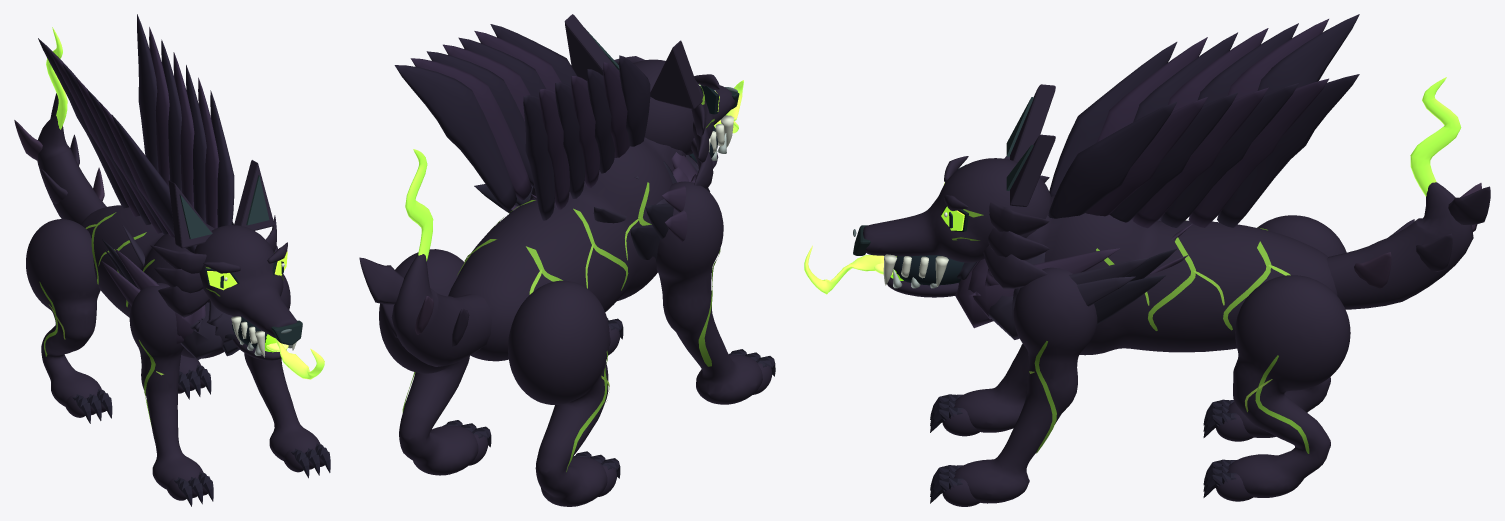
Rendered from venomaris.glb.
The picture shows the model from 3 angles, left to right: view 1: azimuth 30°, elevation 25°; view 2: azimuth 150°, elevation 25°; view 3: azimuth 270°, elevation 25°; orthographic projection. The views are drawn at different scales.
Parts seen in each view (by area): view 1: Sculpted leftLeg, Sculpted leftArm, Sculpted skull and tapered muzzle, Sculpted rib cage, chest and neck, Sculpted rightArm, Full flowing tail, Swept poisonous dorsal blade.013, Swept poisonous dorsal blade, Swept poisonous dorsal blade.007, Swept poisonous dorsal blade.012, Swept poisonous dorsal blade.009, Swept poisonous dorsal blade.008 (+26 smaller); view 2: Sculpted rib cage, chest and neck, Sculpted leftLeg, Sculpted leftArm, Sculpted rightLeg, Full flowing tail, Swept poisonous dorsal blade.013, Sculpted skull and tapered muzzle, Swept poisonous dorsal blade.012, Swept poisonous dorsal blade.006, Swept poisonous dorsal blade.011, Upright sculpted ear, Swept poisonous dorsal blade.005 (+17 smaller); view 3: Sculpted rib cage, chest and neck, Sculpted rightLeg, Sculpted rightArm, Sculpted skull and tapered muzzle, Full flowing tail, Swept poisonous dorsal blade.007, Swept poisonous dorsal blade.013, Swept poisonous dorsal blade.012, Swept poisonous dorsal blade.011, Swept poisonous dorsal blade.010, Sculpted leftArm, Swept poisonous dorsal blade.009 (+26 smaller).
Boxes of the visible parts, <box> form: Sculpted leftLeg: <box>26,219,101,406</box>; Sculpted leftArm: <box>129,283,202,489</box>; Sculpted skull and tapered muzzle: <box>194,225,296,338</box>; Sculpted rib cage, chest and neck: <box>81,205,224,358</box>; Sculpted rightArm: <box>244,274,320,460</box>; Full flowing tail: <box>37,115,106,224</box>; Swept poisonous dorsal blade.013: <box>137,14,158,171</box>; Swept poisonous dorsal blade: <box>111,114,196,252</box>; Swept poisonous dorsal blade.007: <box>210,90,234,227</box>; Swept poisonous dorsal blade.012: <box>149,27,169,185</box>; Swept poisonous dorsal blade.009: <box>186,65,206,223</box>; Swept poisonous dorsal blade.008: <box>198,77,219,228</box>; Sculpted rib cage, chest and neck: <box>448,137,685,361</box>; Sculpted leftLeg: <box>508,280,609,506</box>; Sculpted leftArm: <box>656,181,762,404</box>; Sculpted rightLeg: <box>379,249,478,475</box>; Full flowing tail: <box>391,254,491,366</box>; Swept poisonous dorsal blade.013: <box>394,65,516,211</box>; Sculpted skull and tapered muzzle: <box>633,59,735,154</box>; Swept poisonous dorsal blade.012: <box>410,58,531,200</box>; Swept poisonous dorsal blade.006: <box>523,95,554,220</box>; Swept poisonous dorsal blade.011: <box>426,51,534,187</box>; Upright sculpted ear: <box>650,40,702,109</box>; Swept poisonous dorsal blade.005: <box>539,89,569,209</box>; Sculpted rib cage, chest and neck: <box>1026,195,1337,355</box>; Sculpted rightLeg: <box>1227,275,1350,497</box>; Sculpted rightArm: <box>954,267,1097,503</box>; Sculpted skull and tapered muzzle: <box>863,158,1051,262</box>; Full flowing tail: <box>1326,182,1473,309</box>; Swept poisonous dorsal blade.007: <box>1048,101,1177,218</box>; Swept poisonous dorsal blade.013: <box>1217,74,1359,227</box>; Swept poisonous dorsal blade.012: <box>1188,78,1328,227</box>; Swept poisonous dorsal blade.011: <box>1160,83,1298,227</box>; Swept poisonous dorsal blade.010: <box>1132,87,1268,228</box>; Sculpted leftArm: <box>954,343,1028,432</box>; Swept poisonous dorsal blade.009: <box>1109,92,1237,222</box>.
Size of the model in its own units: 0.8981 by 1.8 by 2.66.
